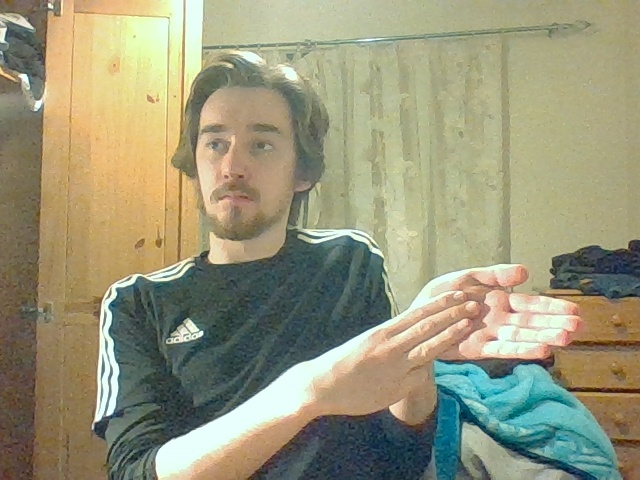mother: (394, 263, 586, 365)
